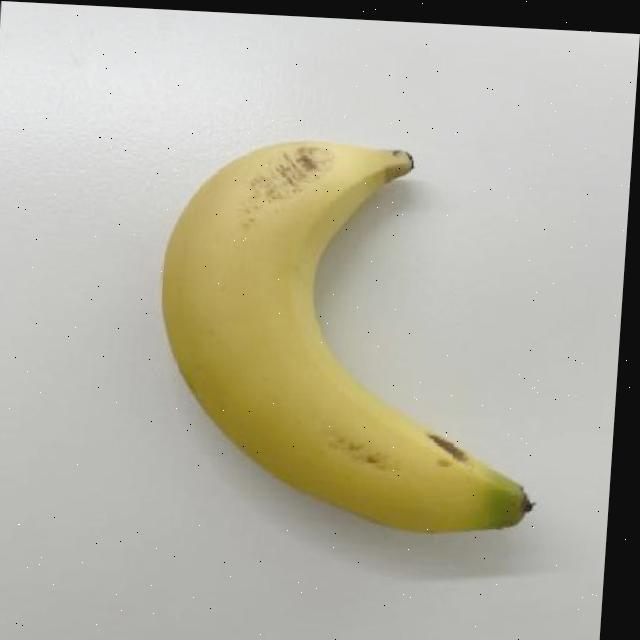banana: (144, 125, 566, 542)
